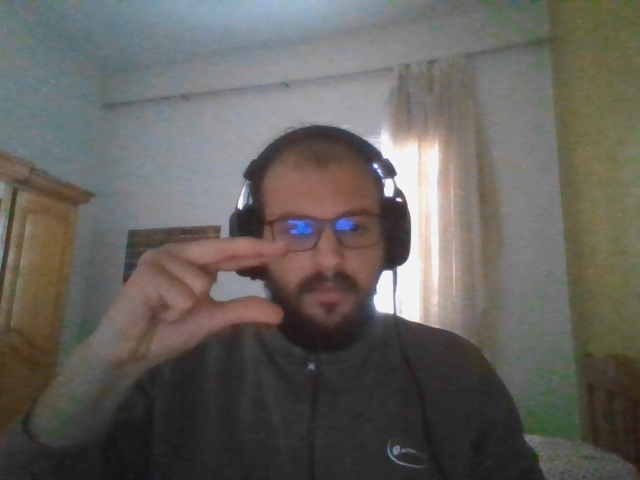No: (138, 239, 281, 357)
